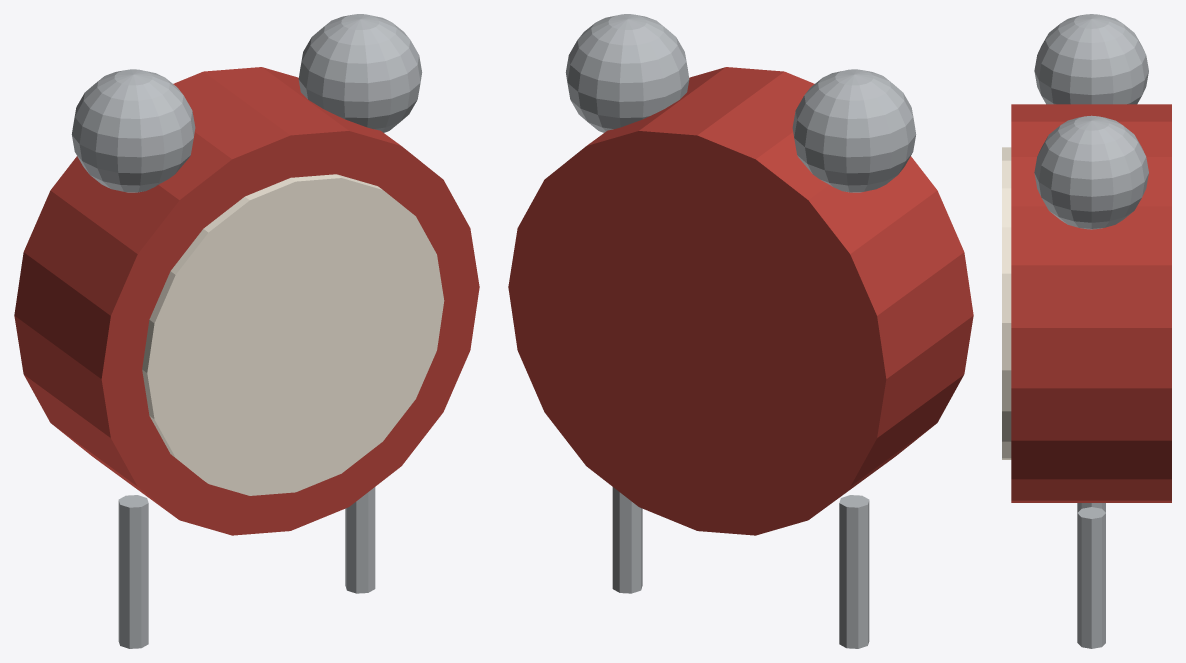
Rendered from hh_alarm_clock.glb.
The picture shows the model from 3 angles, left to right: view 1: azimuth 30°, elevation 25°; view 2: azimuth 150°, elevation 25°; view 3: azimuth 270°, elevation 25°; orthographic projection. The views are drawn at different scales.
Parts seen in each view (by area): view 1: body, face, bell, bell.001, foot, foot.001; view 2: body, bell, bell.001, foot, foot.001; view 3: body, bell.001, bell, foot.001, face.
Part boxes in pixels (box(x1,y1,x2,y2)): body: box(14, 67, 479, 535); face: box(142, 174, 444, 495); bell: box(71, 69, 195, 192); bell.001: box(298, 14, 422, 132); foot: box(118, 495, 148, 648); foot.001: box(345, 487, 375, 593); body: box(508, 67, 973, 535); bell: box(792, 69, 916, 192); bell.001: box(565, 14, 689, 132); foot: box(839, 495, 869, 648); foot.001: box(612, 487, 642, 593); body: box(1011, 104, 1171, 502); bell.001: box(1034, 115, 1148, 229); bell: box(1034, 14, 1148, 104); foot.001: box(1077, 507, 1105, 648); face: box(1002, 147, 1011, 459).
Size of the model in its own units: 0.14 by 0.201 by 0.0593.
